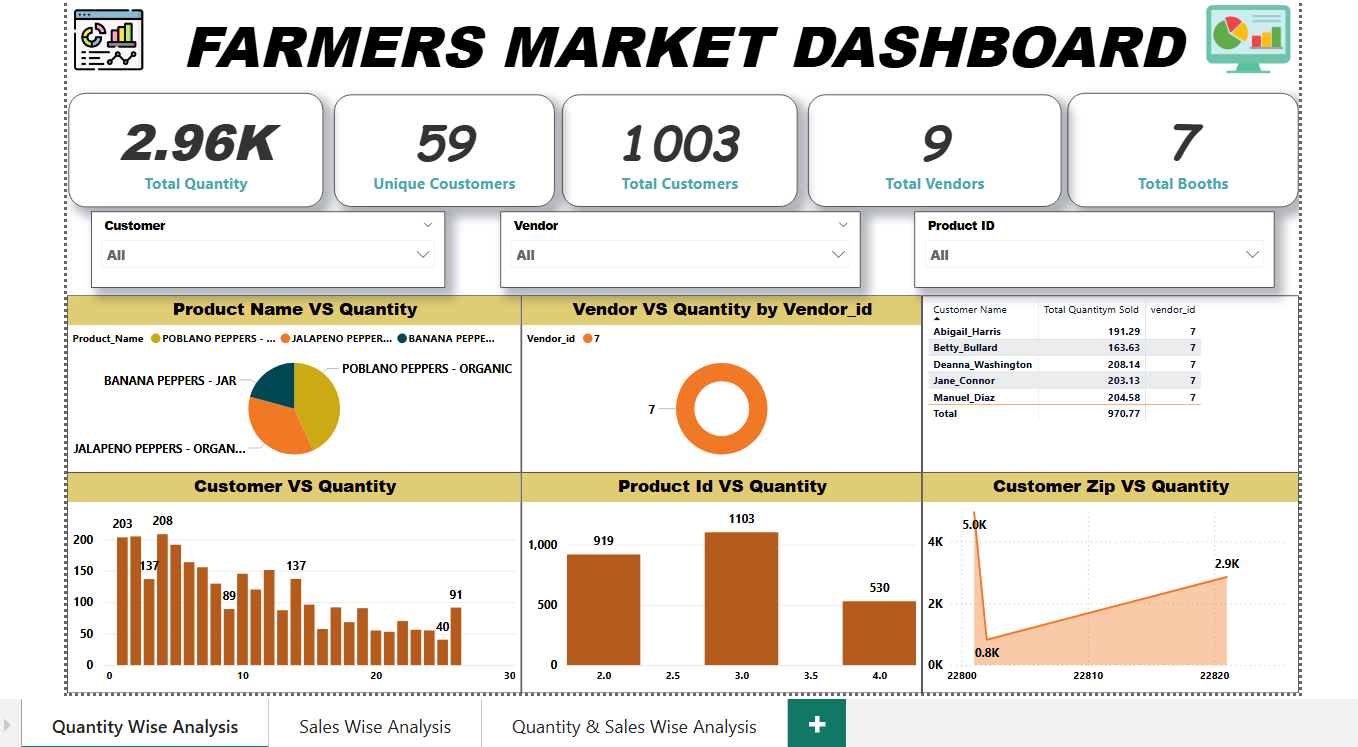

The dashboard page shown, as its layout file describes it:
{"tool":"powerbi","page":{"name":"Quantity Wise Analysis","canvas":[1280,720],"ordinal":0},"visuals":[{"type":"columnChart","title":"Customer VS Quantity","fields":{"Category":["customer.customer_id"],"Y":["customer_purchases.quantity"]},"box":[0,490.9,472.2,229.1],"z":0},{"type":"clusteredColumnChart","title":"Product Id VS Quantity","fields":{"Y":["customer_purchases.quantity"],"Category":["sample_products.product_id"]},"box":[472.2,490.9,416.1,229.1],"z":1000},{"type":"pieChart","title":"Product Name VS Quantity","fields":{"Category":["sample_products.product_name"],"Y":["customer_purchases.quantity"]},"box":[0,307,472.2,183.9],"z":2000},{"type":"donutChart","fields":{"Y":["customer_purchases.quantity"],"Category":["vendor.vendor_id"]},"box":[472.2,307,416.1,183.9],"z":3000},{"type":"textbox","box":[0,0,1279.5,98.2],"z":4000},{"type":"image","box":[0,0,87.3,82.6],"z":5000},{"type":"image","box":[1175.1,0,104.4,81],"z":6000},{"type":"card","fields":{"Values":["customer_purchases.quantity"]},"box":[1.6,96.6,264.9,118.4],"z":7000},{"type":"card","fields":{"Values":["customer_purchases.customer_id"]},"box":[277.4,98.2,229.1,116.9],"z":8000},{"type":"card","fields":{"Values":["customer_purchases.customer_id"]},"box":[514.3,98.2,244.7,116.9],"z":9000},{"type":"card","fields":{"Values":["vendor.vendor_id"]},"box":[769.9,98.2,263.4,116.9],"z":10000},{"type":"card","fields":{"Values":["vendor_booth_assignments.booth_number"]},"box":[1039.5,96.6,240,118.4],"z":11000},{"type":"tableEx","fields":{"Values":["customer.Customer_Full_name","customer_purchases.quantity","customer_purchases.vendor_id"]},"box":[888.3,307,391.2,183.9],"z":12000},{"type":"areaChart","title":"Customer Zip VS Quantity","fields":{"Category":["customer.customer_zip"],"Y":["customer_purchases.sales"]},"box":[888.3,490.9,391.2,229.1],"z":13000},{"type":"slicer","fields":{"Values":["customer_purchases.customer_id"]},"box":[24.9,219.7,367.8,79.5],"z":14000},{"type":"slicer","fields":{"Values":["customer_purchases.vendor_id"]},"box":[450.4,219.7,374,79.5],"z":15000},{"type":"slicer","fields":{"Values":["customer_purchases.product_id"]},"box":[880.5,219.7,374,79.5],"z":17000}]}

Visuals, with their boxes on the page's 1280x720 design canvas (x1, y1, x2, y2). These are canvas units, not pixel positions in the 1358x747 screenshot, which may show the page scaled, cropped or inside an application window:
"Customer VS Quantity" columnChart: x1=0 y1=491 x2=472 y2=720
"Product Id VS Quantity" clusteredColumnChart: x1=472 y1=491 x2=888 y2=720
"Product Name VS Quantity" pieChart: x1=0 y1=307 x2=472 y2=491
donutChart - customer_purchases.quantity x vendor.vendor_id: x1=472 y1=307 x2=888 y2=491
textbox: x1=0 y1=0 x2=1280 y2=98
image: x1=0 y1=0 x2=87 y2=83
image: x1=1175 y1=0 x2=1280 y2=81
card - customer_purchases.quantity: x1=2 y1=97 x2=266 y2=215
card - customer_purchases.customer_id: x1=277 y1=98 x2=506 y2=215
card - customer_purchases.customer_id: x1=514 y1=98 x2=759 y2=215
card - vendor.vendor_id: x1=770 y1=98 x2=1033 y2=215
card - vendor_booth_assignments.booth_number: x1=1040 y1=97 x2=1280 y2=215
tableEx - customer.Customer_Full_name x customer_purchases.quantity: x1=888 y1=307 x2=1280 y2=491
"Customer Zip VS Quantity" areaChart: x1=888 y1=491 x2=1280 y2=720
slicer - customer_purchases.customer_id: x1=25 y1=220 x2=393 y2=299
slicer - customer_purchases.vendor_id: x1=450 y1=220 x2=824 y2=299
slicer - customer_purchases.product_id: x1=880 y1=220 x2=1254 y2=299
